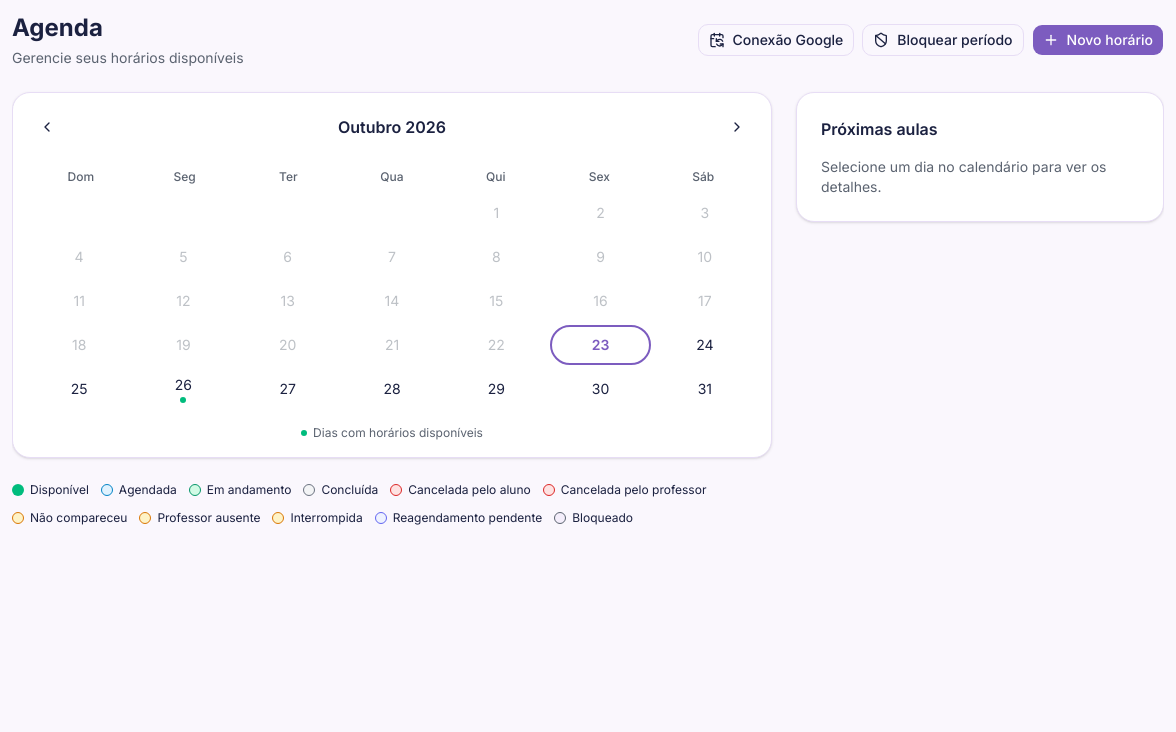
it: AdminScheduleClient - falha de carregamento da agenda › erro que chega com um dia ja selecionado nao vira "Nenhum slot neste dia."
Expected: the table with test id "calendar-view-grid" is shown, [29, 193, 755, 409]
Click the cell "26". click: [183, 389]
box: [133, 369, 234, 409]
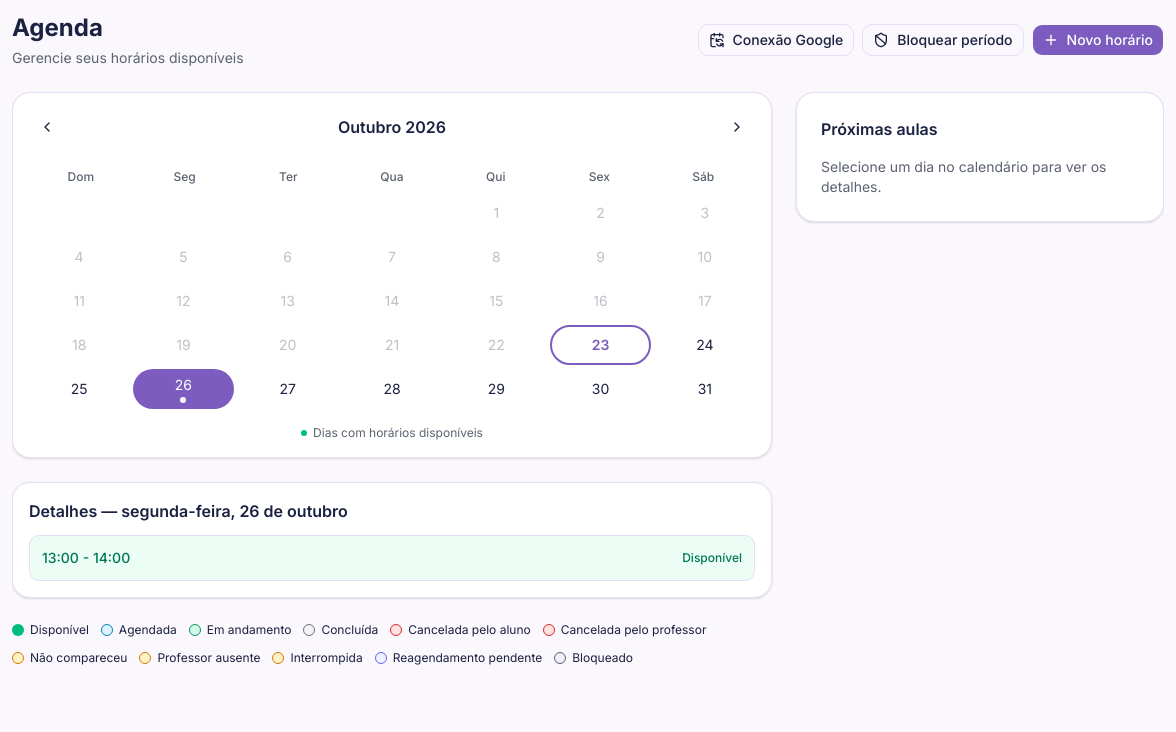
Expected: the element with test id "admin-calendar-day-details" is shown, [12, 482, 772, 598]
Expected: the element with test id "admin-calendar-slot-list" is shown, [29, 535, 755, 581]
Click the button with test id "calendar-view-next-month-button". click: [737, 127]
box: [719, 109, 755, 145]
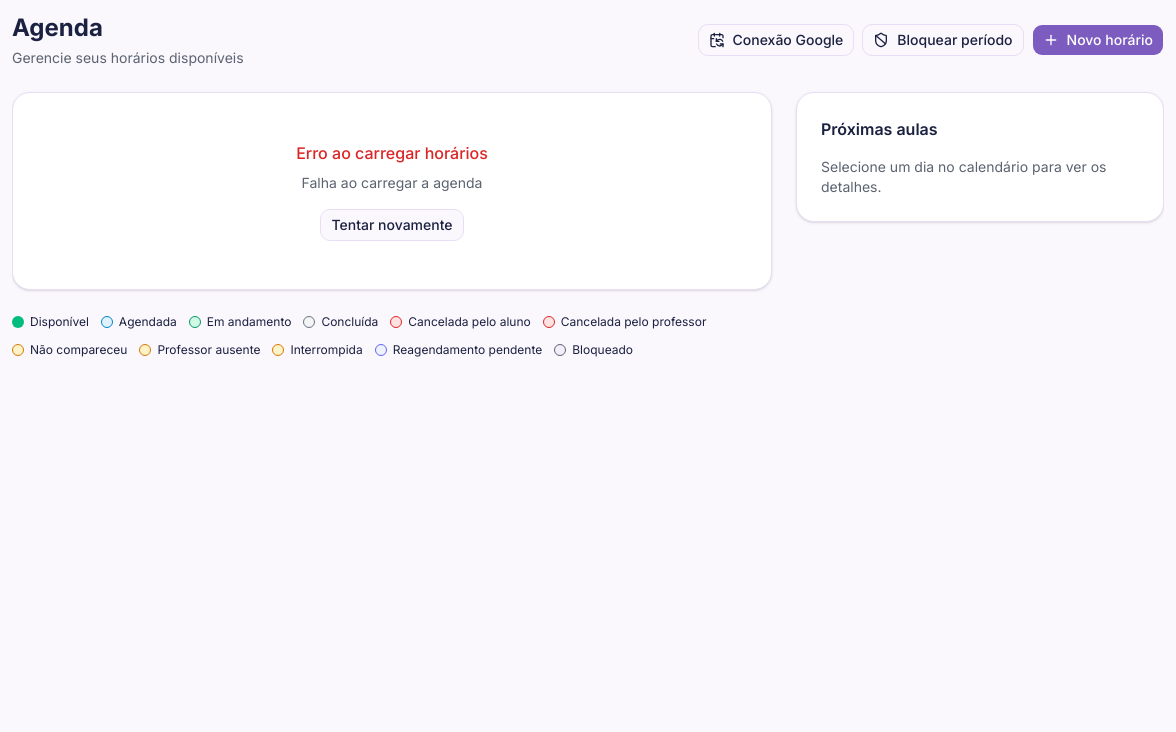
Expected: the message "Erro ao carregar horários Falha ao carregar a agenda Tentar novamente" is shown, [12, 92, 772, 290]
Expected: the element with test id "admin-calendar-day-details" is gone
